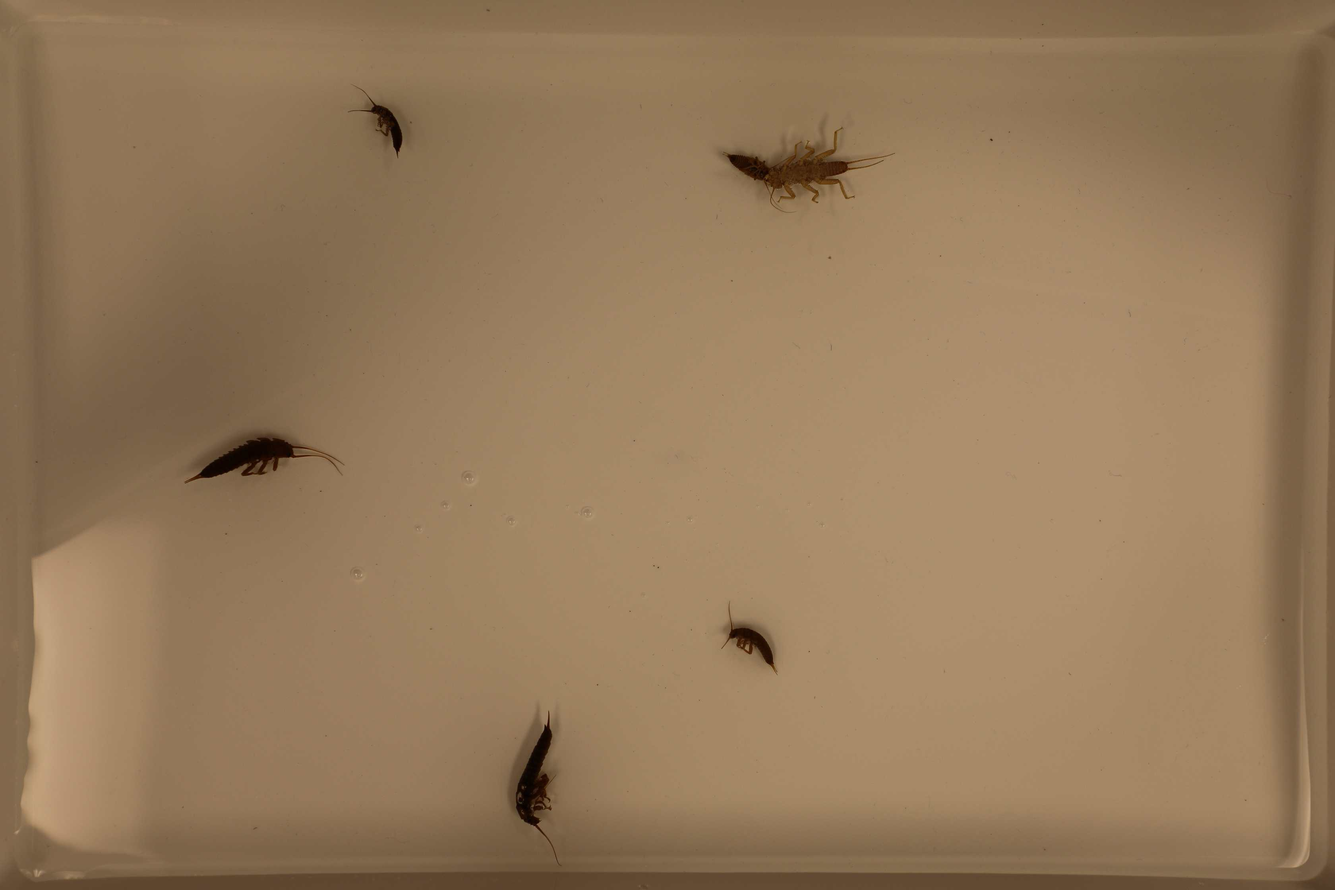Stonefly: (763, 125, 894, 208), (178, 428, 337, 494), (507, 697, 563, 873), (340, 83, 405, 159), (718, 601, 779, 677), (721, 150, 769, 183)
